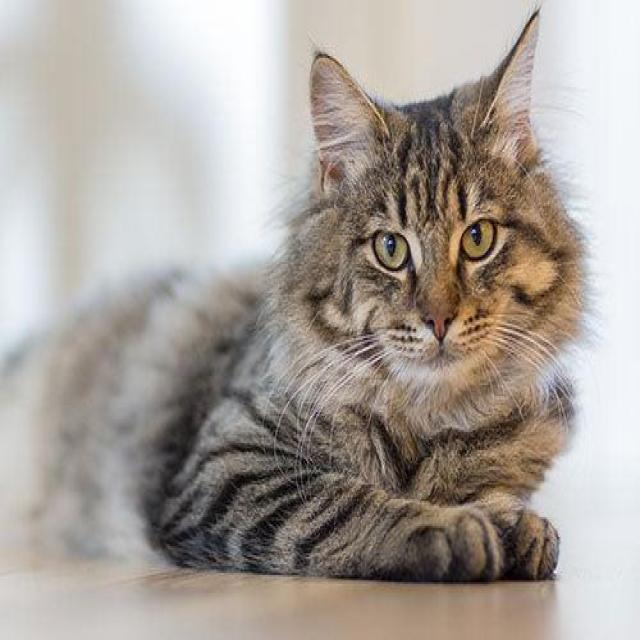Cat: (284, 5, 602, 409)
